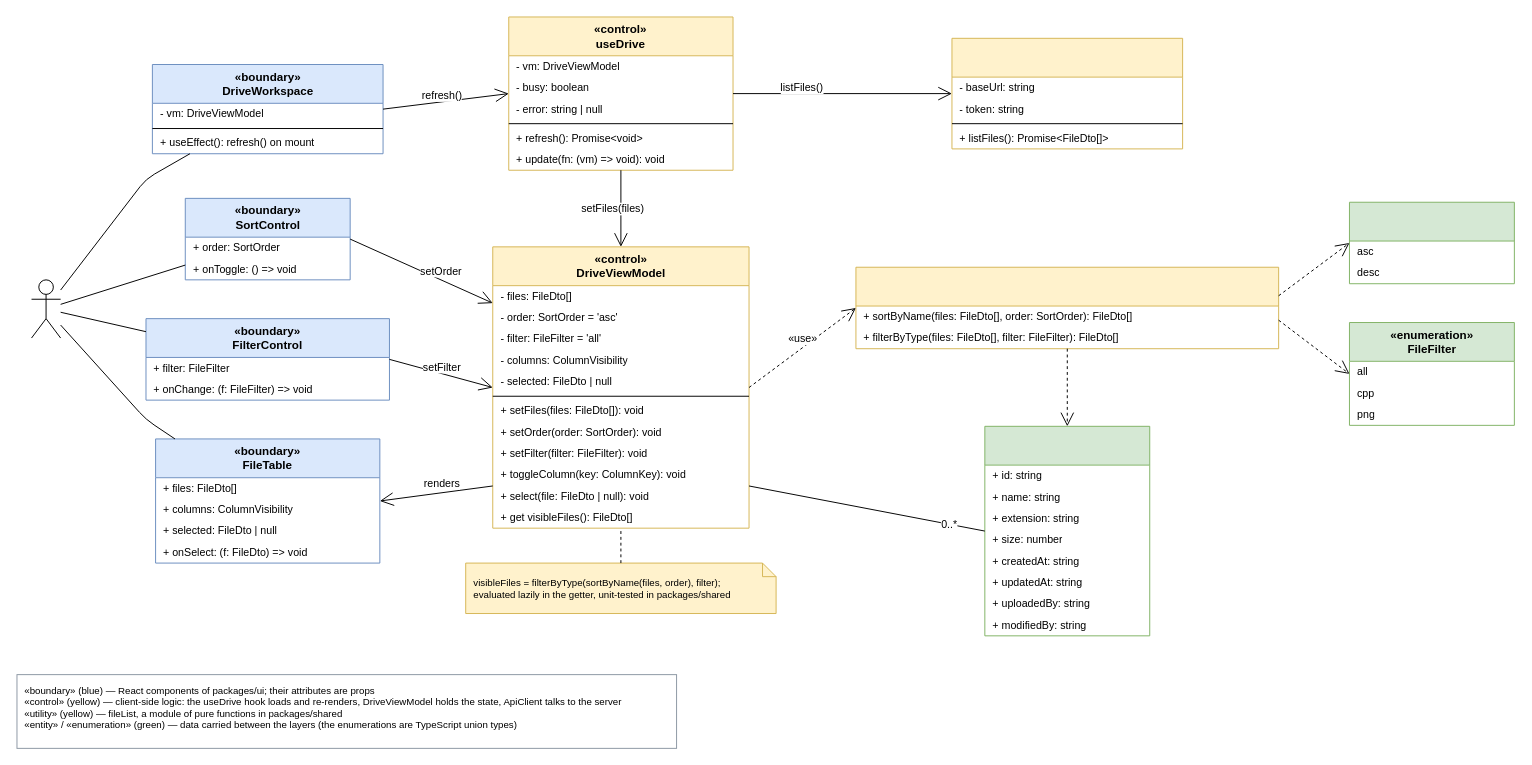
Some shapes in this 1532 by 765 pixel diagram are drawn without their labels. Each missing label, with the box of its shape:
User: (31, 279, 61, 338)
«control» ApiClient: (951, 37, 1183, 149)
«entity» FileDto: (984, 425, 1150, 636)
«enumeration» SortOrder: (1348, 201, 1514, 284)
«utility» fileList: (855, 266, 1279, 349)
